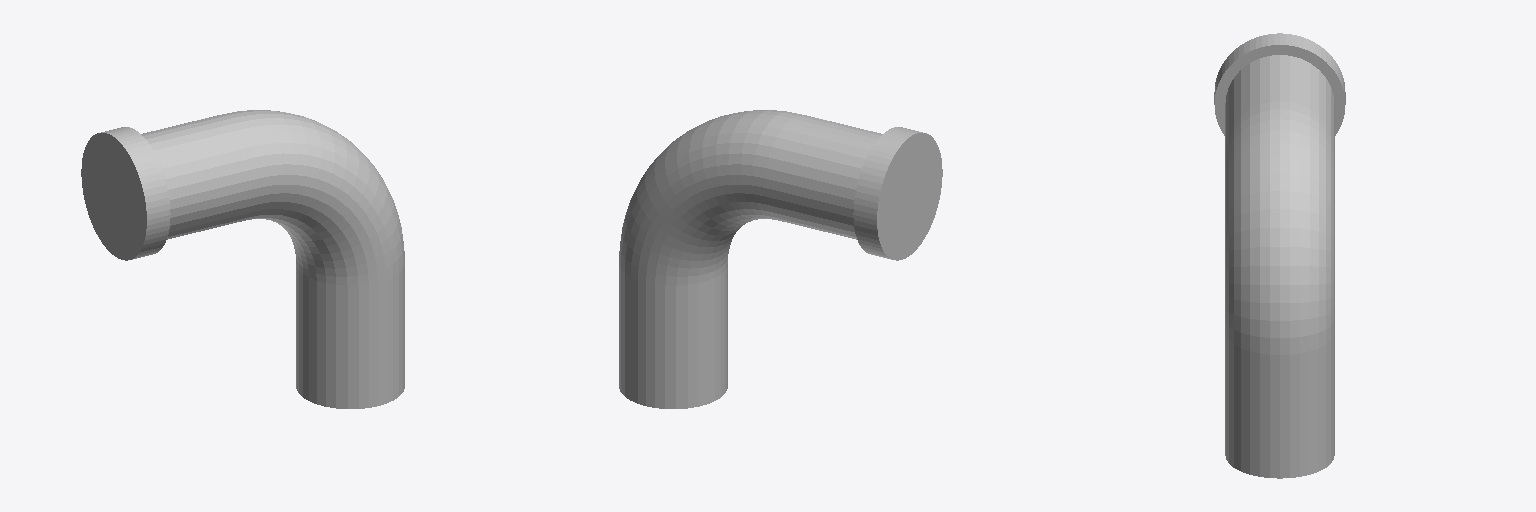
Rendered from PipeCorner.obj.
3 renders of one model, left to right at view 1: azimuth 30°, elevation 25°; view 2: azimuth 150°, elevation 25°; view 3: azimuth 270°, elevation 25°, orthographic.
Parts seen in each view (by area): view 1: object_2, object_1; view 2: object_2, object_1; view 3: object_2, object_1.
Boxes of the visible parts, box(x1,y1,x2,y2) form: object_2: box(87, 110, 404, 408); object_1: box(81, 127, 170, 260); object_2: box(619, 110, 935, 408); object_1: box(853, 127, 942, 260); object_2: box(1225, 55, 1334, 478); object_1: box(1214, 33, 1345, 135).
Bounding box in the file's own units: 0.6 × 0.62 × 0.24.